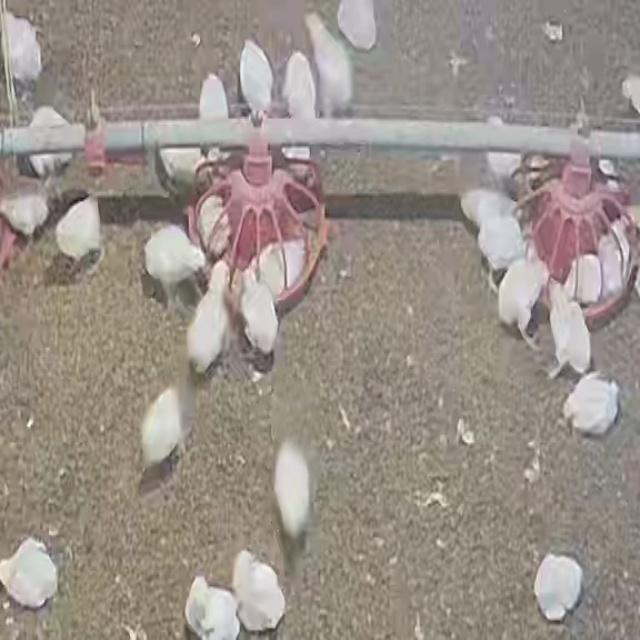chicken: (182, 258, 234, 379), (459, 188, 524, 280), (138, 224, 206, 306), (266, 437, 316, 546), (305, 12, 355, 114), (136, 383, 192, 471), (494, 257, 548, 344), (548, 282, 595, 380), (53, 193, 105, 280), (0, 537, 60, 611), (232, 550, 288, 628), (237, 264, 281, 363), (21, 106, 77, 182), (183, 574, 240, 640), (567, 371, 623, 437), (533, 552, 585, 622), (248, 237, 309, 295), (236, 37, 276, 114), (0, 184, 50, 240), (598, 217, 632, 295), (282, 50, 317, 120), (197, 192, 227, 255)
